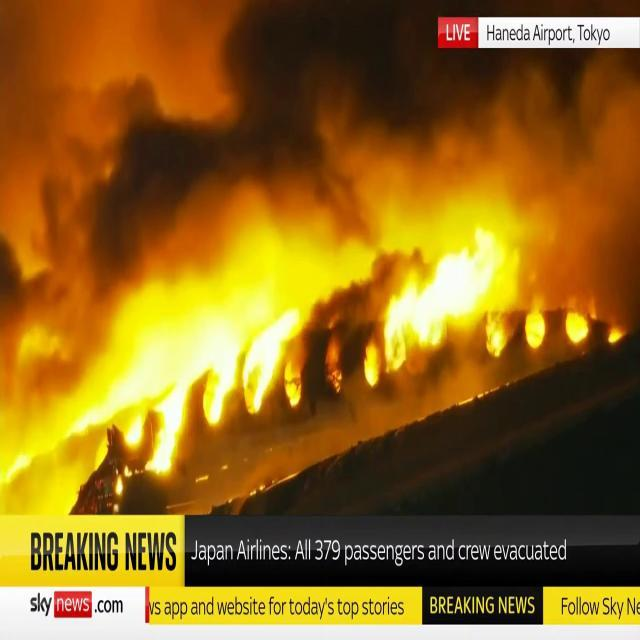Fire: (69, 238, 309, 486), (364, 202, 536, 372)
Smoke: (1, 1, 585, 266)
